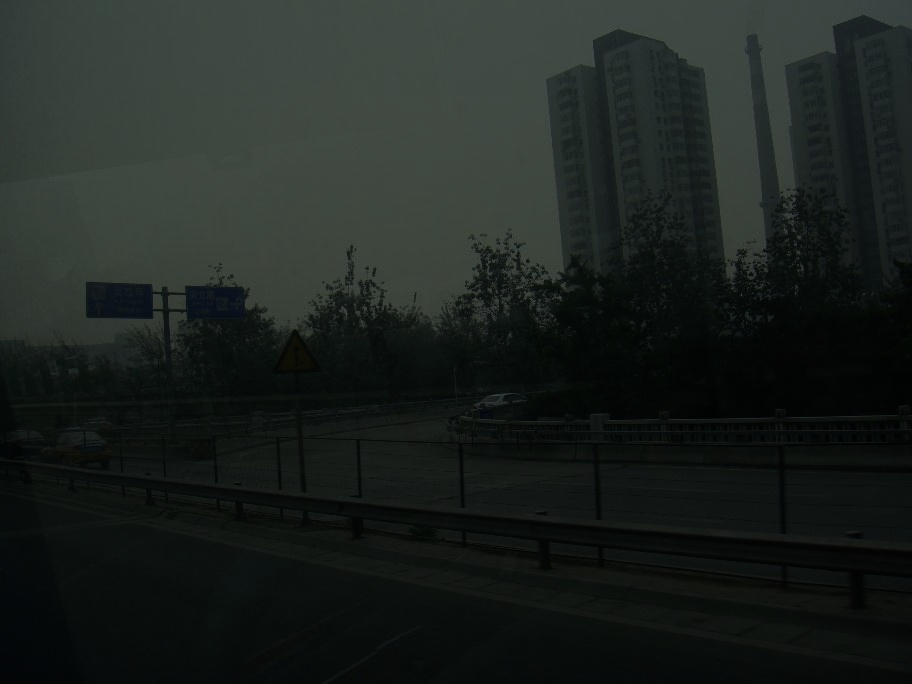Warning Signs: (270, 328, 323, 376)
